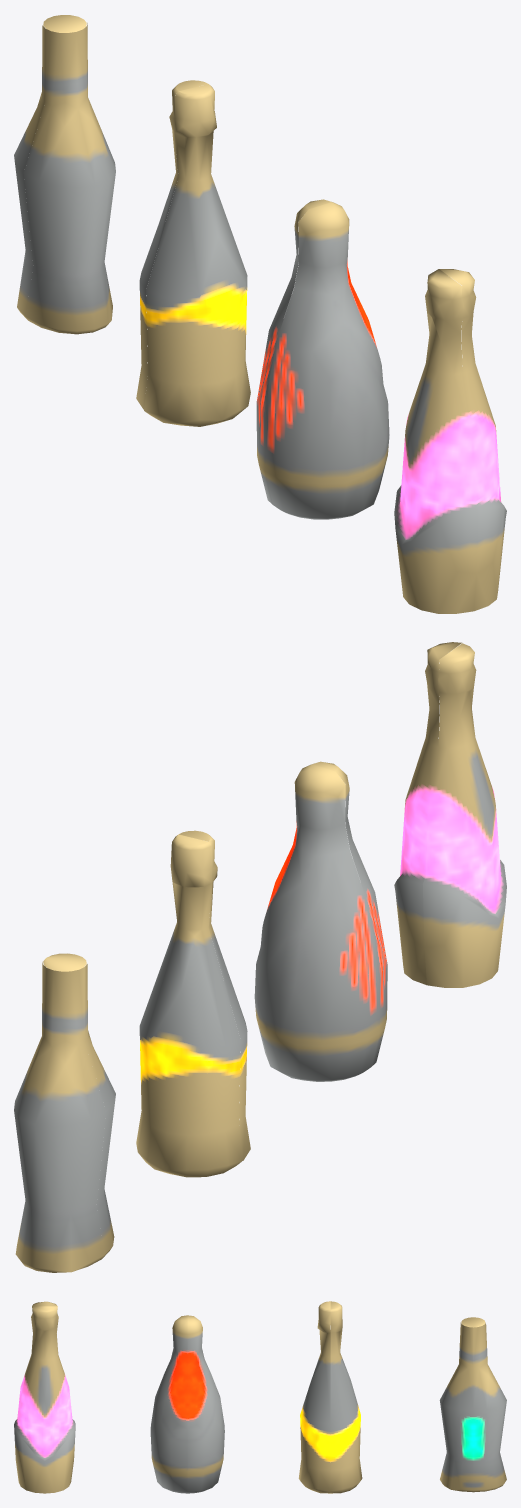
File: bar_bottles_5_a.glb
The picture shows the model from 3 angles, top to bottom: view 1: azimuth 30°, elevation 25°; view 2: azimuth 150°, elevation 25°; view 3: azimuth 270°, elevation 25°; orthographic projection. The views are drawn at different scales.
Visible parts, largest first — view 1: bar_bottles_5; view 2: bar_bottles_5; view 3: bar_bottles_5.
Boxes of the visible parts, x1=… form: bar_bottles_5: x1=14, y1=15, x2=506, y2=613; bar_bottles_5: x1=14, y1=642, x2=506, y2=1272; bar_bottles_5: x1=14, y1=1301, x2=506, y2=1493.
Bounding box in the file's own units: 0.1295 × 0.341 × 0.8598.
1 material, 1 textured.
